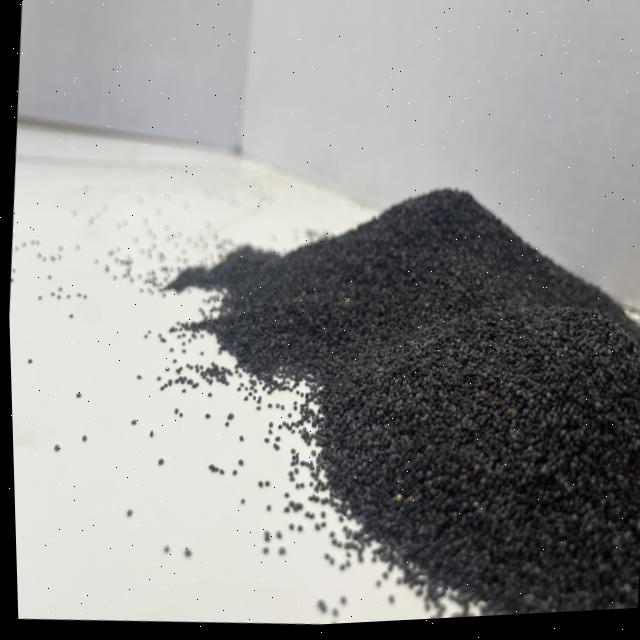Poppy Seeds: (137, 121, 640, 633)
